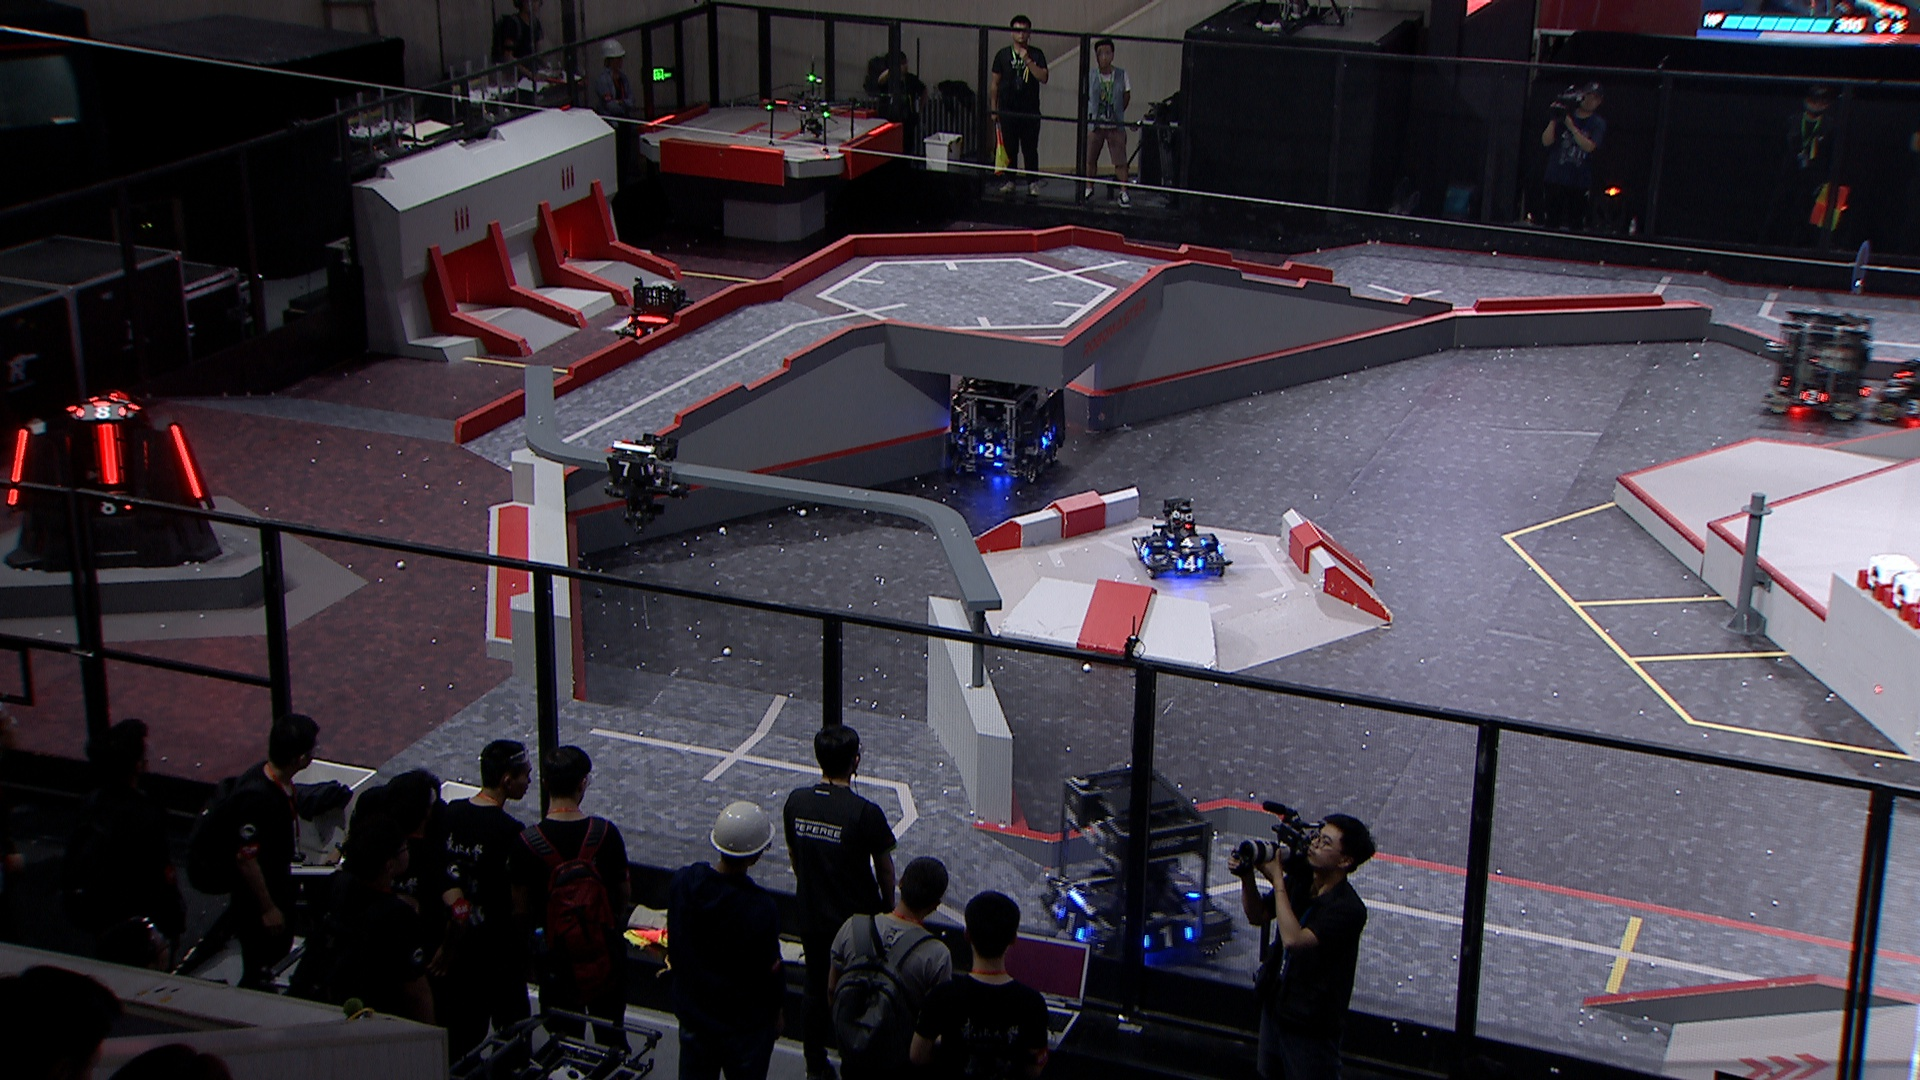armor: (167, 419, 210, 501), (7, 425, 32, 506), (94, 419, 121, 487), (1139, 926, 1197, 951), (1054, 907, 1087, 945), (74, 405, 131, 422), (603, 458, 647, 479), (91, 498, 131, 520), (1171, 874, 1201, 899), (1163, 535, 1205, 551), (975, 442, 1005, 462), (1797, 386, 1828, 406), (1178, 555, 1207, 572), (633, 324, 659, 342), (1038, 429, 1055, 450), (1902, 398, 1920, 417), (1135, 541, 1153, 559)
base: (1, 389, 222, 574)
car: (1035, 764, 1236, 965), (945, 365, 1069, 488), (1760, 309, 1874, 423), (1127, 495, 1238, 579), (615, 276, 711, 357), (1871, 357, 1920, 425)
watcher: (599, 433, 684, 531)
